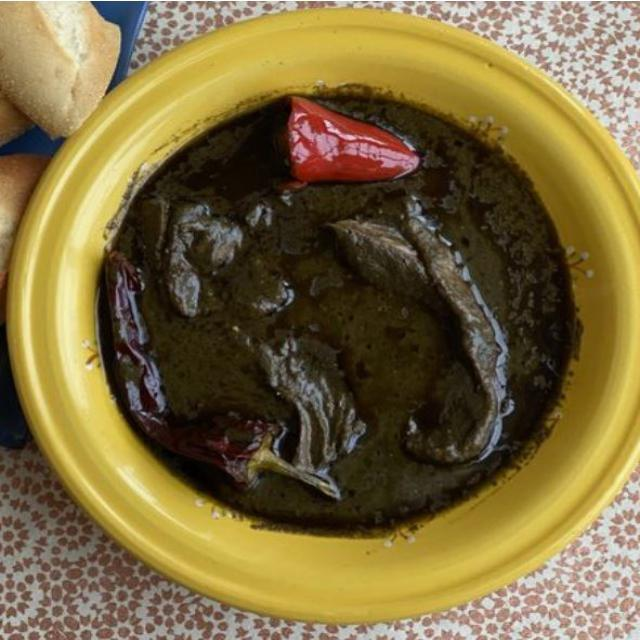Melloukhia: (68, 62, 622, 586)
